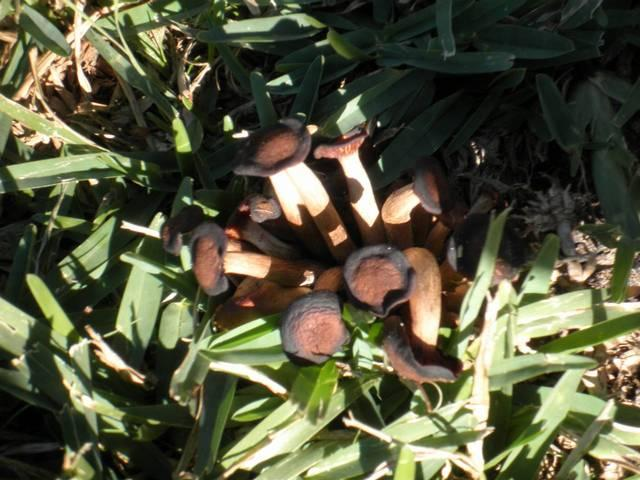Edible Mushroom: (161, 115, 466, 386)
